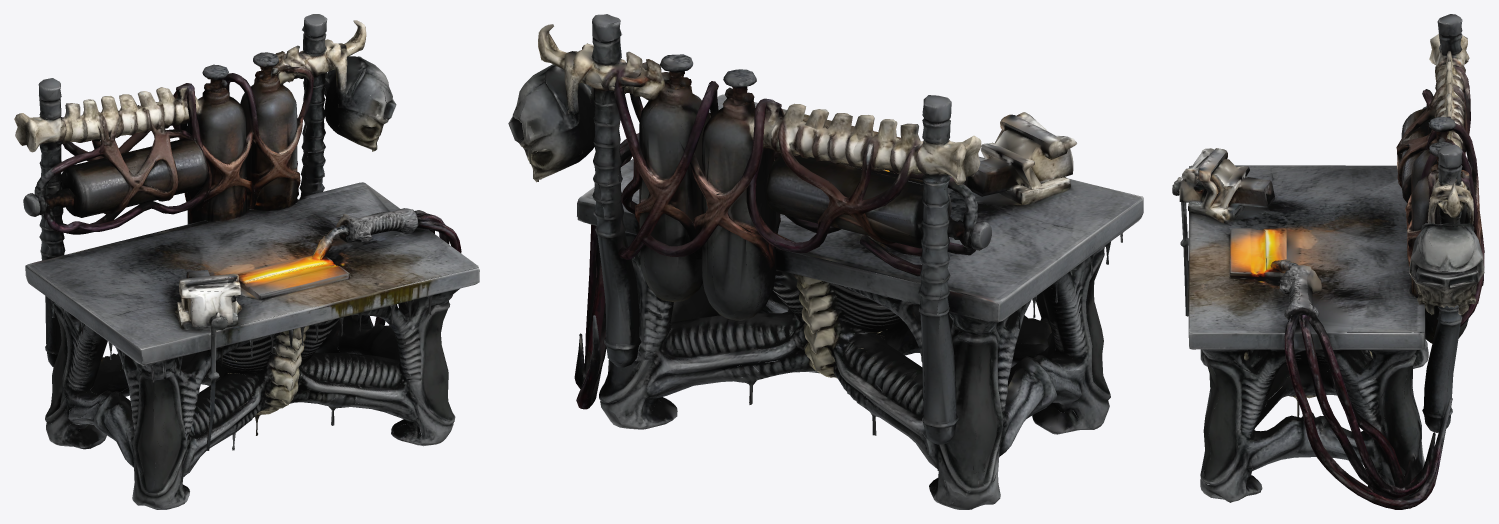
Rendered from life_welding_station.glb.
The picture shows the model from 3 angles, left to right: view 1: azimuth 30°, elevation 25°; view 2: azimuth 150°, elevation 25°; view 3: azimuth 270°, elevation 25°; orthographic projection. The views are drawn at different scales.
Visible parts, largest first — view 1: node_0; view 2: node_0; view 3: node_0.
Part boxes in pixels (x1,y1,x2,y2): node_0: (14, 14, 479, 509); node_0: (508, 14, 1143, 509); node_0: (1172, 14, 1484, 509).
Bounding box in the file's own units: 0.8982 × 0.781 × 0.6374.
Materials: 1 (1 with a texture image).
